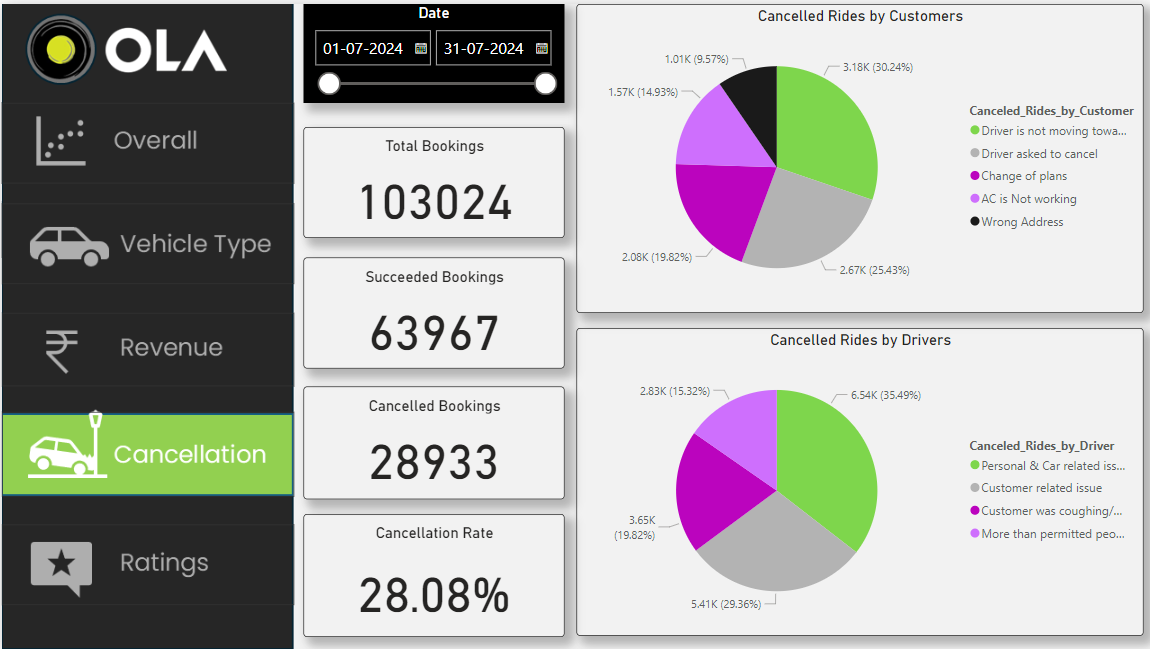

The page's visual inventory and layout, read from the dashboard file:
{"tool":"powerbi","page":{"name":"Cancellation","canvas":[1280,720],"ordinal":3},"visuals":[{"type":"actionButton","box":[0,221.1,324.5,89.1],"z":0},{"type":"actionButton","box":[0,343.6,324.5,81.1],"z":1000},{"type":"actionButton","box":[0,453.3,324.5,93.8],"z":2000},{"type":"actionButton","box":[0,579,324.5,89.1],"z":3000},{"type":"actionButton","box":[0,109.8,324.5,89.1],"z":4000},{"type":"pieChart","title":"Cancelled Rides by Customers","fields":{"Category":["Bookings.Canceled_Rides_by_Customer"],"Y":["CountNonNull(Bookings.Canceled_Rides_by_Customer)"]},"box":[638.3,0,630,343.3],"z":5000},{"type":"pieChart","title":"Cancelled Rides by  Drivers","fields":{"Y":["CountNonNull(Bookings.Canceled_Rides_by_Driver)"],"Category":["Bookings.Canceled_Rides_by_Driver"]},"box":[638,360,630,342],"z":6000},{"type":"slicer","title":"Date","fields":{"Values":["Bookings.Date"]},"box":[335,0,290,110],"z":7000},{"type":"card","title":"Total Bookings","fields":{"Values":["CountNonNull(Bookings.Booking_ID)"]},"box":[335,136.7,290,123.3],"z":8000},{"type":"card","title":"Succeeded Bookings","fields":{"Values":["CountNonNull(Bookings.Booking_ID)"]},"box":[335,281.7,290,123.3],"z":9000},{"type":"card","title":"Cancelled Bookings","fields":{"Values":["CountNonNull(Bookings.Booking_ID)"]},"box":[335,425,290,125],"z":10000},{"type":"card","title":"Cancellation Rate","fields":{"Values":["Bookings.% of Canceled Bookings"]},"box":[335,566.7,290,136.7],"z":11000}]}

Visuals, with their boxes in screenshot pixels (x1, y1, x2, y2), scaled from the page's 1280x720 canvas onto the 1150x649 screenshot:
actionButton: {"left": 0, "top": 199, "right": 292, "bottom": 280}
actionButton: {"left": 0, "top": 310, "right": 292, "bottom": 383}
actionButton: {"left": 0, "top": 409, "right": 292, "bottom": 493}
actionButton: {"left": 0, "top": 522, "right": 292, "bottom": 602}
actionButton: {"left": 0, "top": 99, "right": 292, "bottom": 179}
"Cancelled Rides by Customers" pieChart: {"left": 573, "top": 0, "right": 1139, "bottom": 309}
"Cancelled Rides by  Drivers" pieChart: {"left": 573, "top": 324, "right": 1139, "bottom": 633}
"Date" slicer: {"left": 301, "top": 0, "right": 562, "bottom": 99}
"Total Bookings" card: {"left": 301, "top": 123, "right": 562, "bottom": 234}
"Succeeded Bookings" card: {"left": 301, "top": 254, "right": 562, "bottom": 365}
"Cancelled Bookings" card: {"left": 301, "top": 383, "right": 562, "bottom": 496}
"Cancellation Rate" card: {"left": 301, "top": 511, "right": 562, "bottom": 634}
